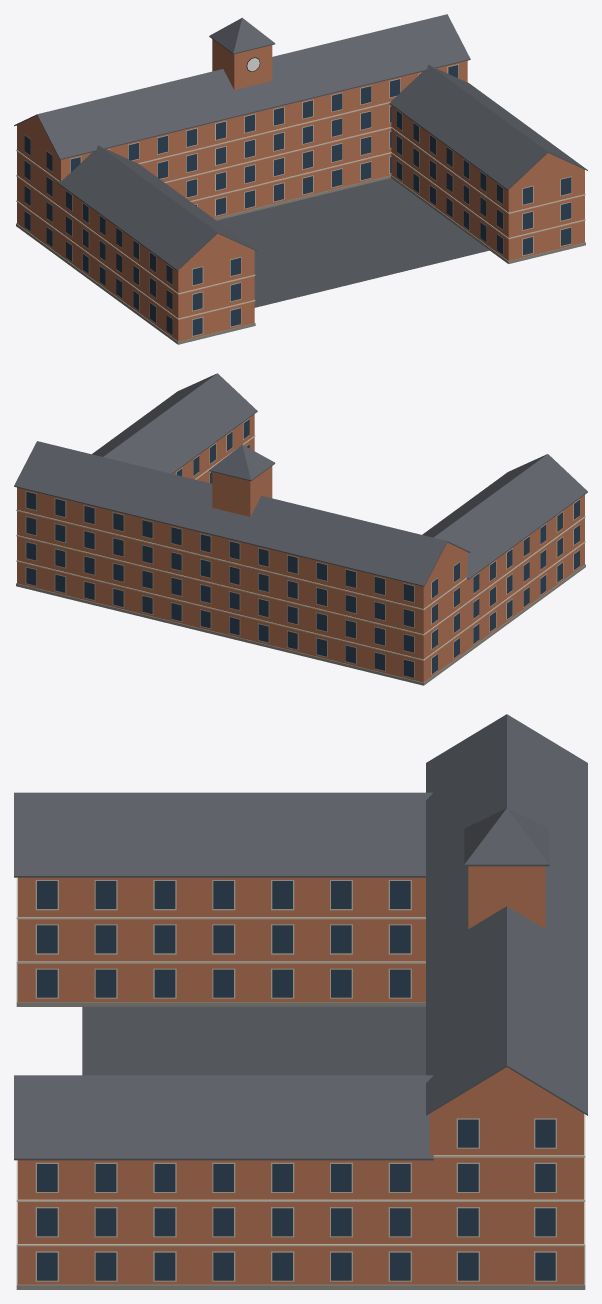
File: lycee.glb
The picture shows the model from 3 angles, top to bottom: view 1: azimuth 30°, elevation 25°; view 2: azimuth 150°, elevation 25°; view 3: azimuth 270°, elevation 25°; orthographic projection. The views are drawn at different scales.
Visible parts, largest first — view 1: lycee; view 2: lycee; view 3: lycee.
Part boxes in pixels (x1=…): lycee: x1=14, y1=14, x2=587, y2=344; lycee: x1=14, y1=373, x2=587, y2=685; lycee: x1=14, y1=714, x2=587, y2=1289.
Size of the model in its own units: 64.6 by 26.34 by 44.6.
1 material, 1 textured.
